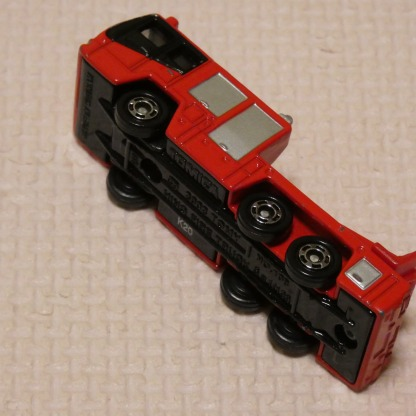car: (61, 7, 416, 389)
